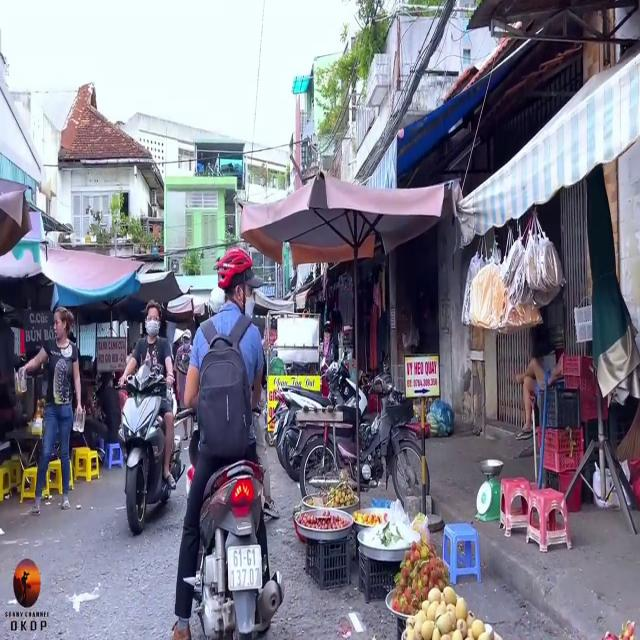bien_trang: (222, 547, 260, 589)
